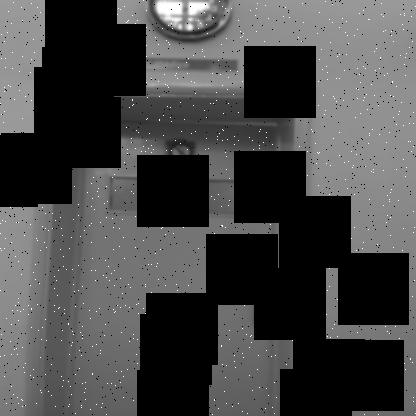Porte: (21, 77, 315, 416)
